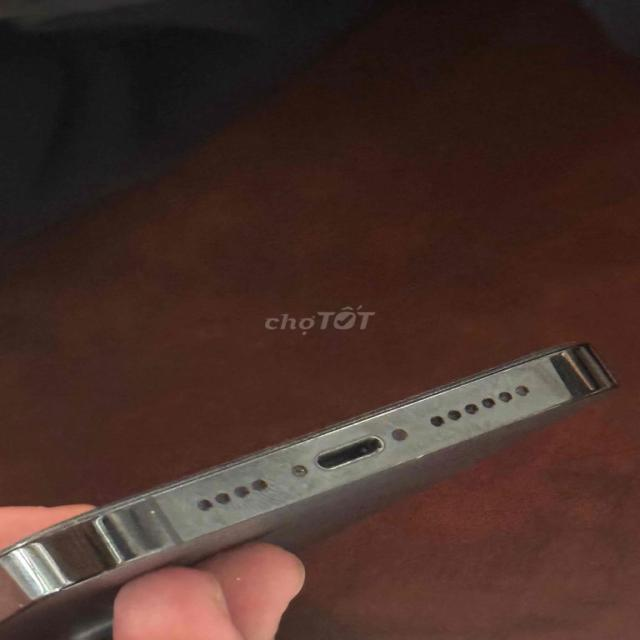gen_14: (0, 328, 616, 616)
